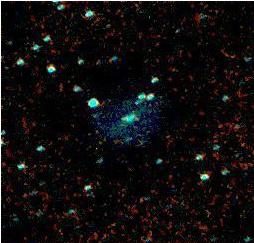star: (126, 127, 156, 157)
